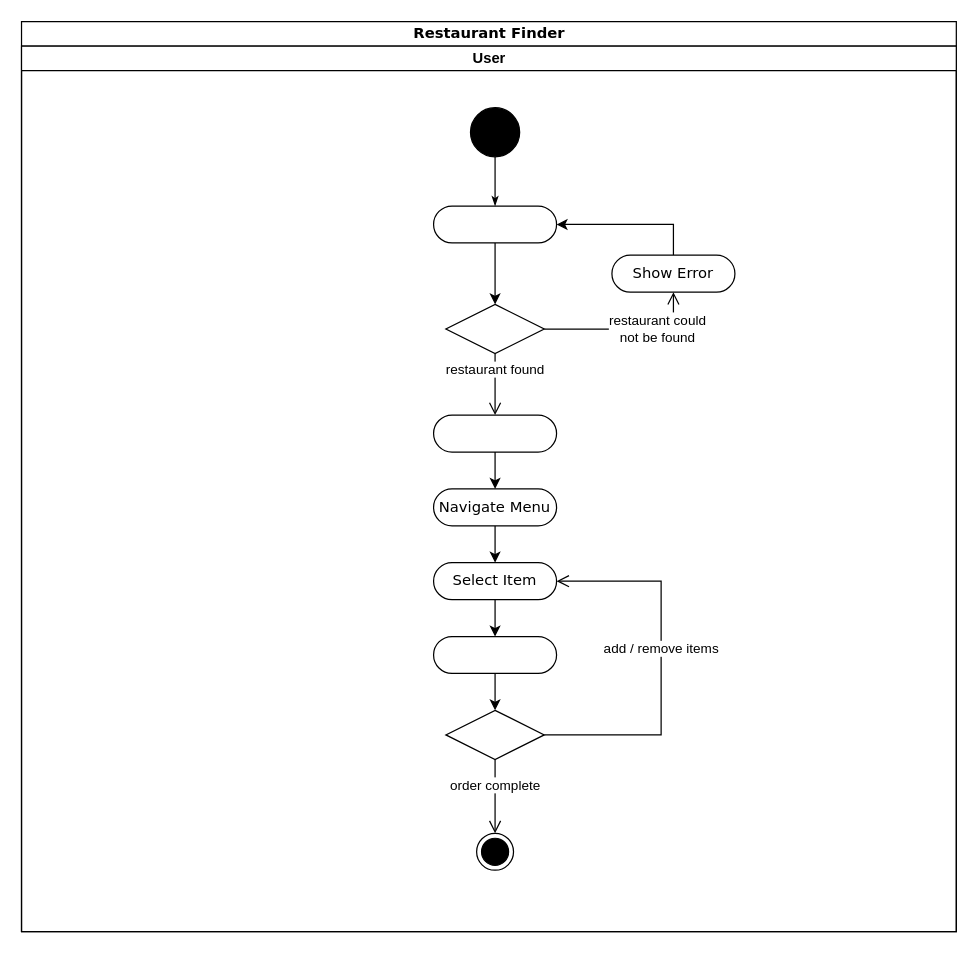
This 978x953 diagram has some shape labels left out. The centre of each missing label's shape, as x and y in pixels:
Calculate Price: point 494,654
Check details: point 494,433
Search Restaurant: point 494,224
